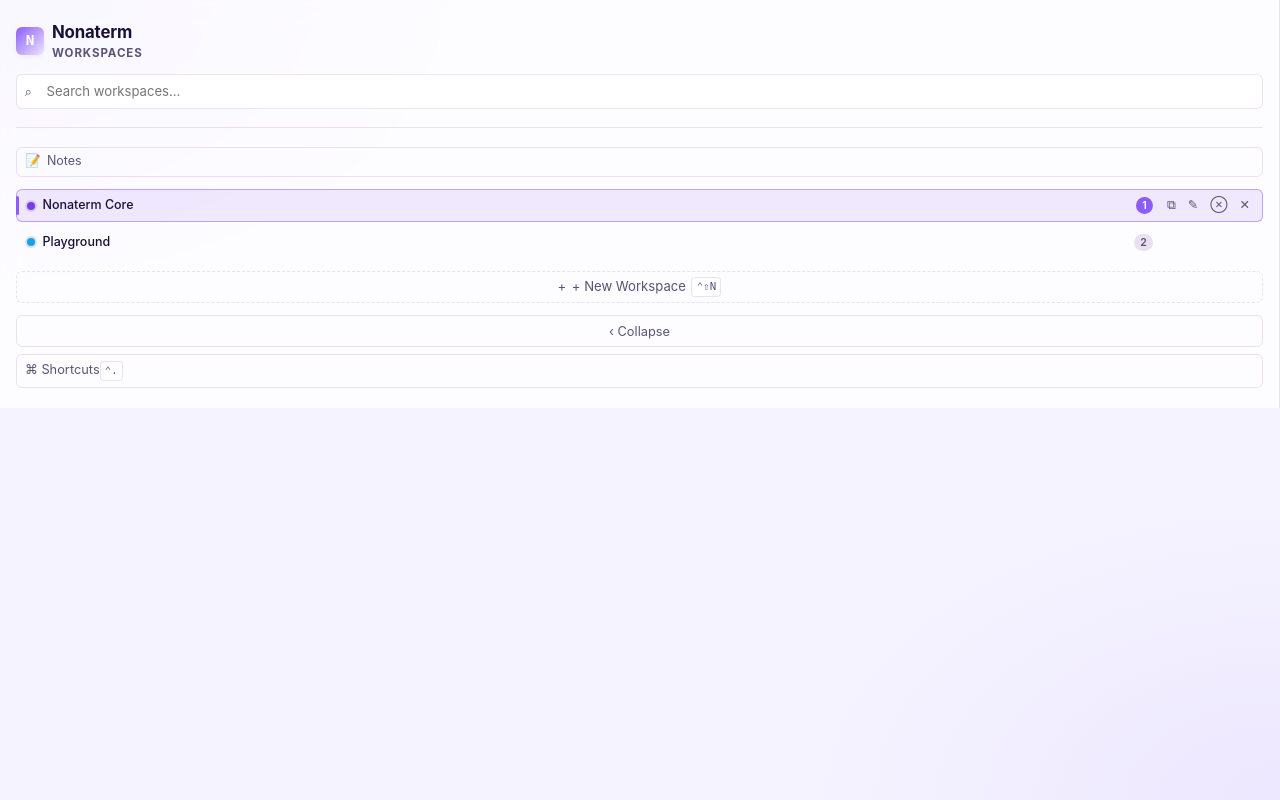
Test: WorkspaceSidebar QA smoke › cancels delete and keeps workspace when dialog Cancel is clicked
The image size is (1280, 800).
Click the button "✕" at (1245, 206), box x1=1234 y1=194 x2=1256 y2=218
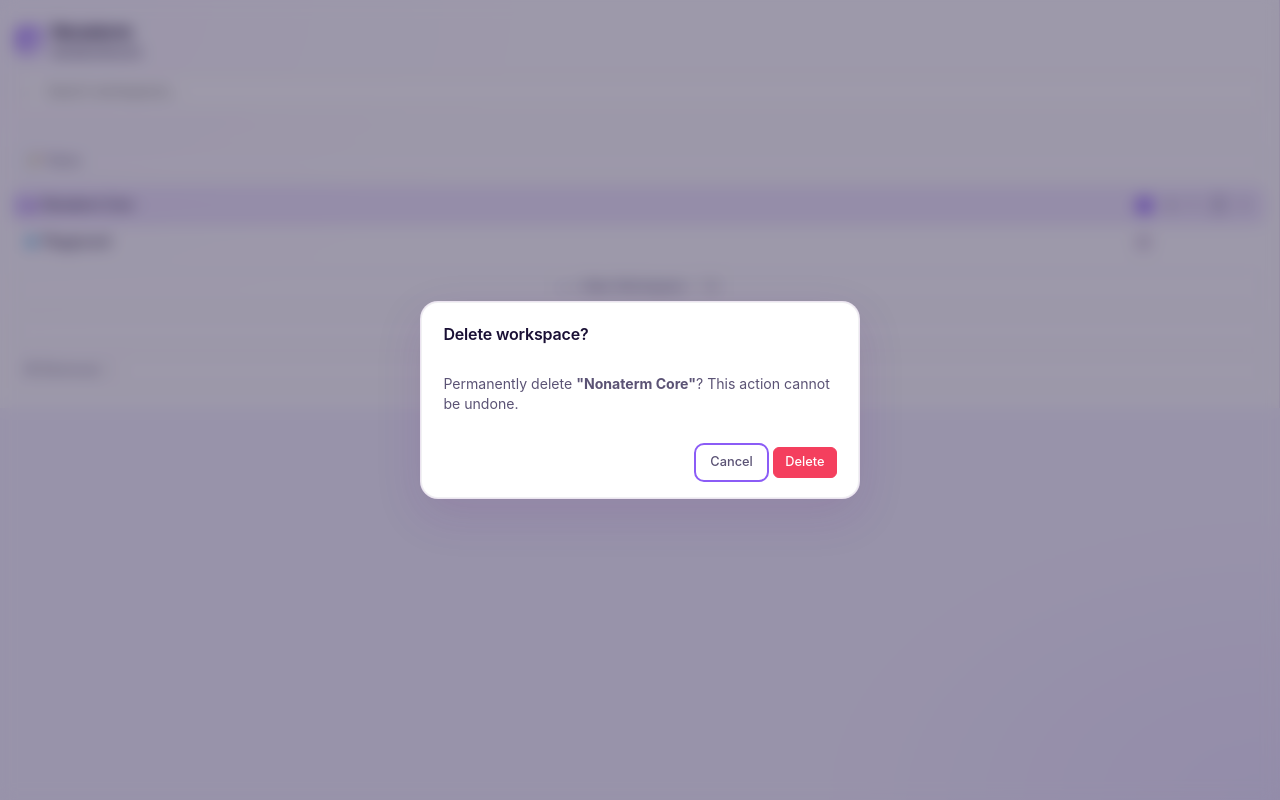
Click the button "Cancel" at (732, 462), box x1=698 y1=446 x2=765 y2=478
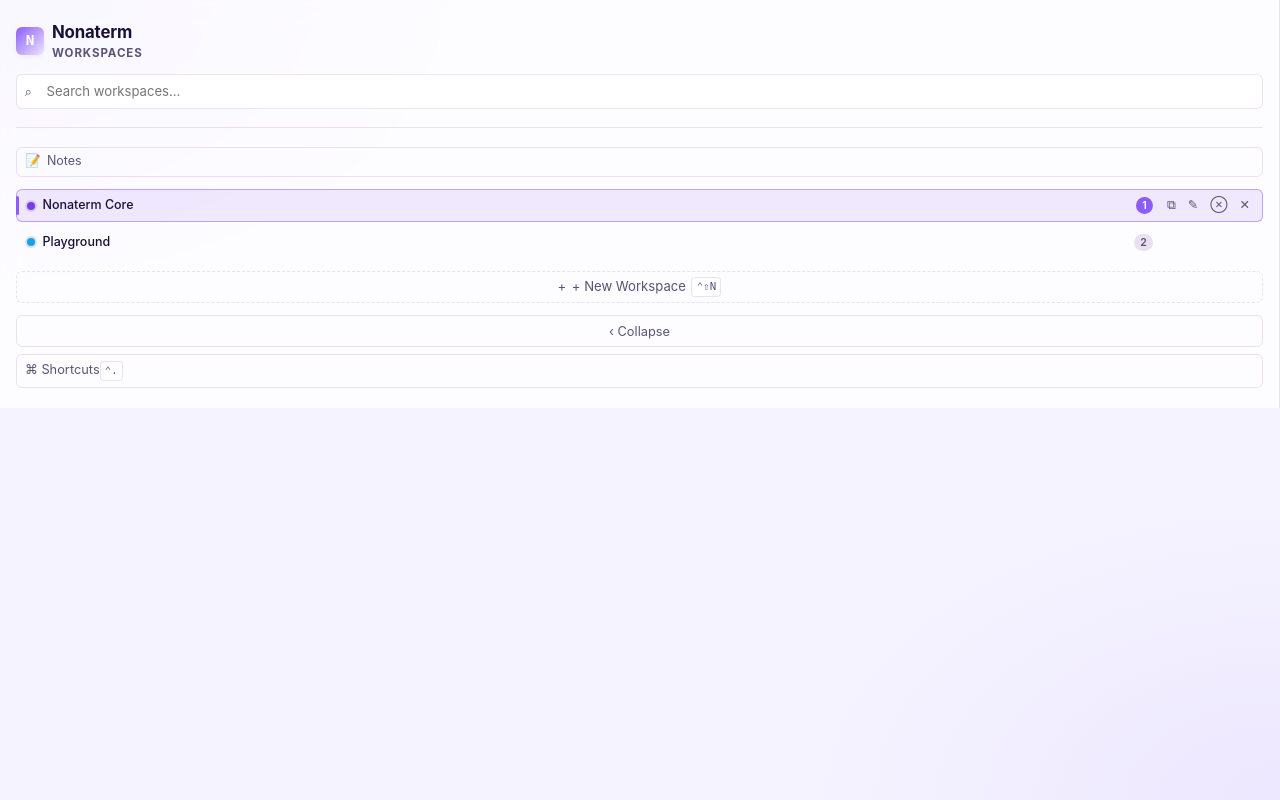
Expected: the heading "Delete workspace?" is gone
